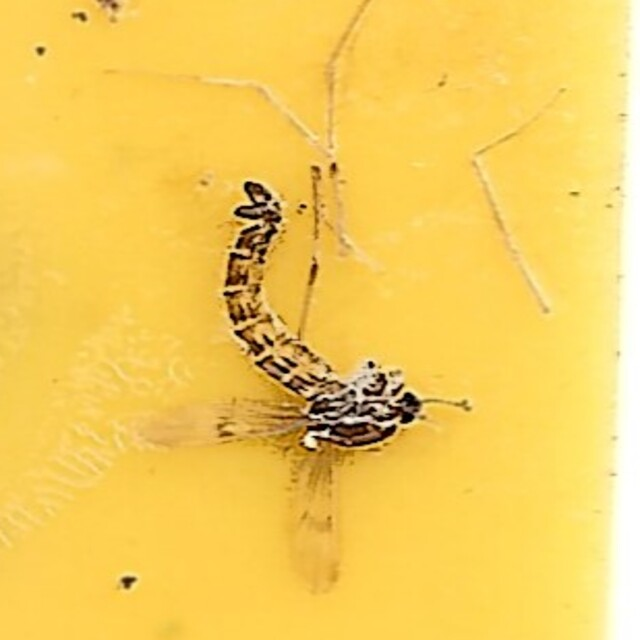Nematocera: (207, 173, 433, 467)
